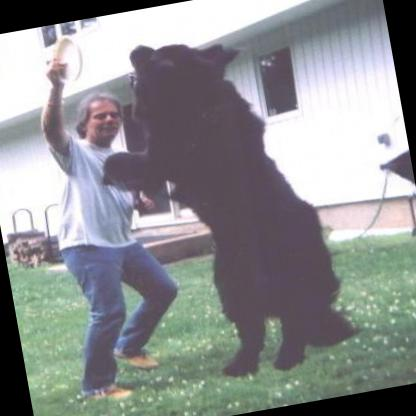Newfoundland: (71, 7, 373, 398)
